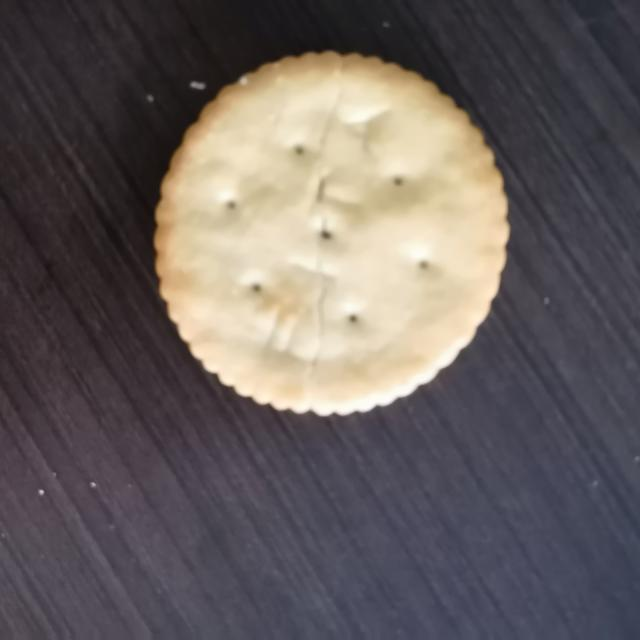Fracture: (290, 47, 366, 415)
